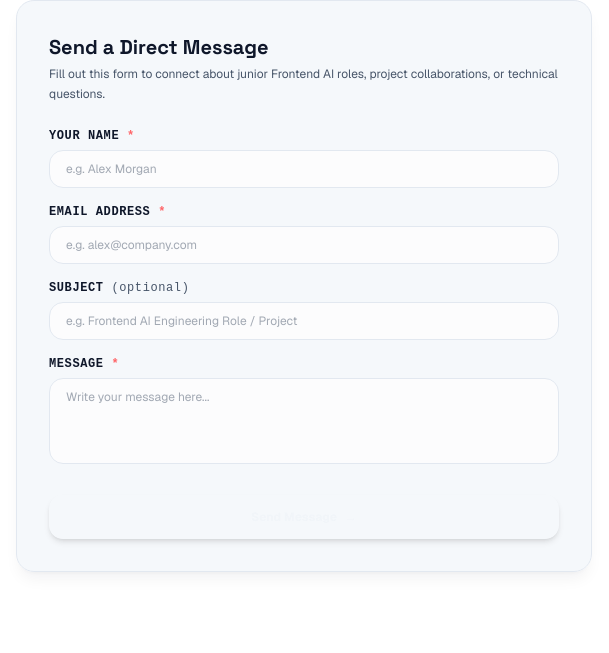
Test: ContactForm Dynamic Component › renders accessible error message when server responds with an error
The image size is (609, 653).
In the field labelled "Your Name *": x=304, y=169 [49,150,559,188], type "Tester"
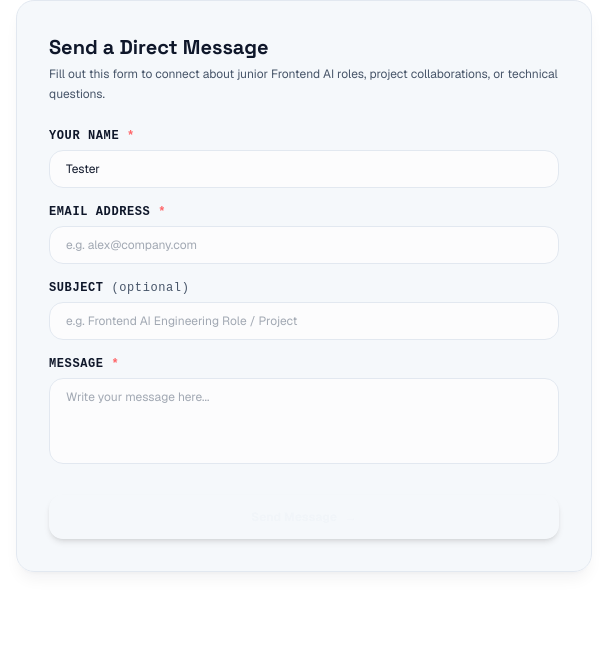
In the field labelled "Email Address *": x=304, y=245 [49,226,559,264], type "test@example.com"
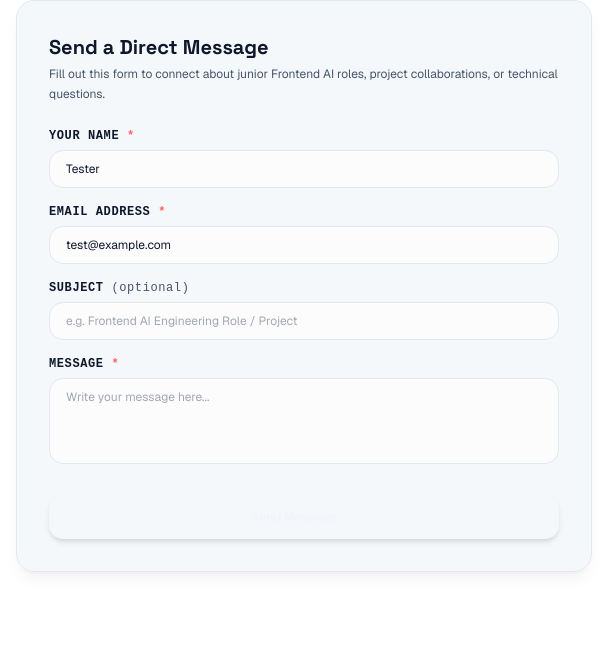
In the text box labelled "Message *": x=304, y=421 [49,378,559,464], type "Valid message body exceeding 10 chars."
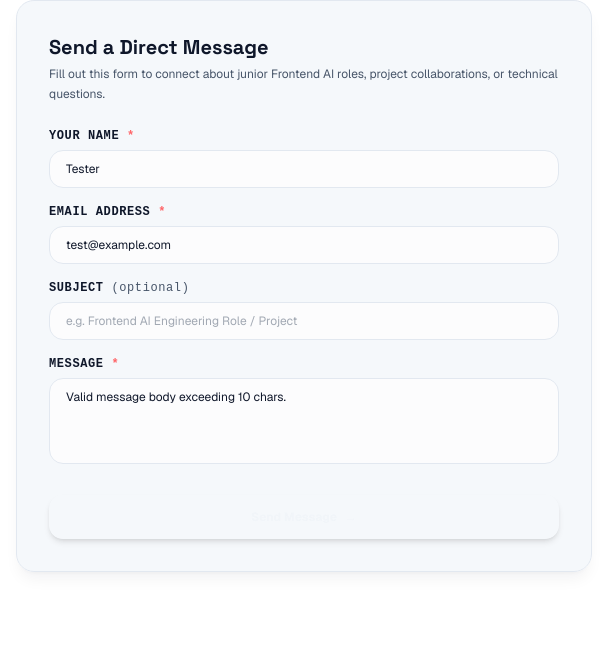
Click the button "Send Message →": x=304, y=517 [49,495,559,539]
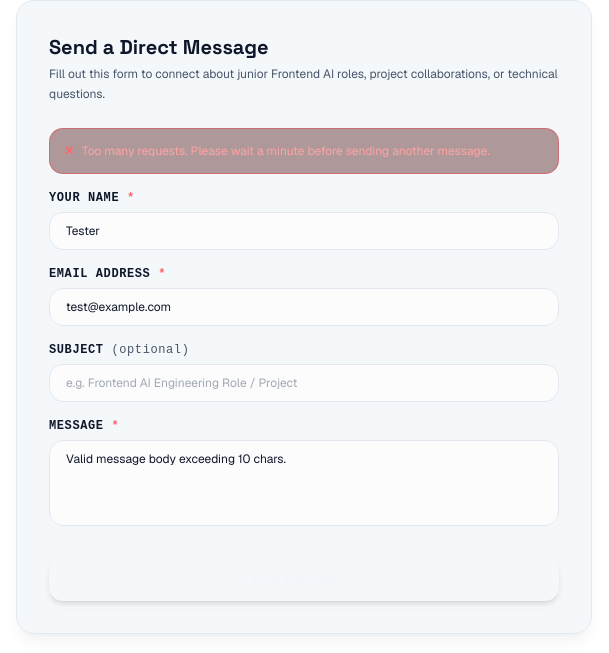
Now the message "✕ Too many requests. Please wait a minute before sending another message." is shown, box [49,128,559,174]
Now the text "Too many requests" is shown, box [82,143,490,159]
